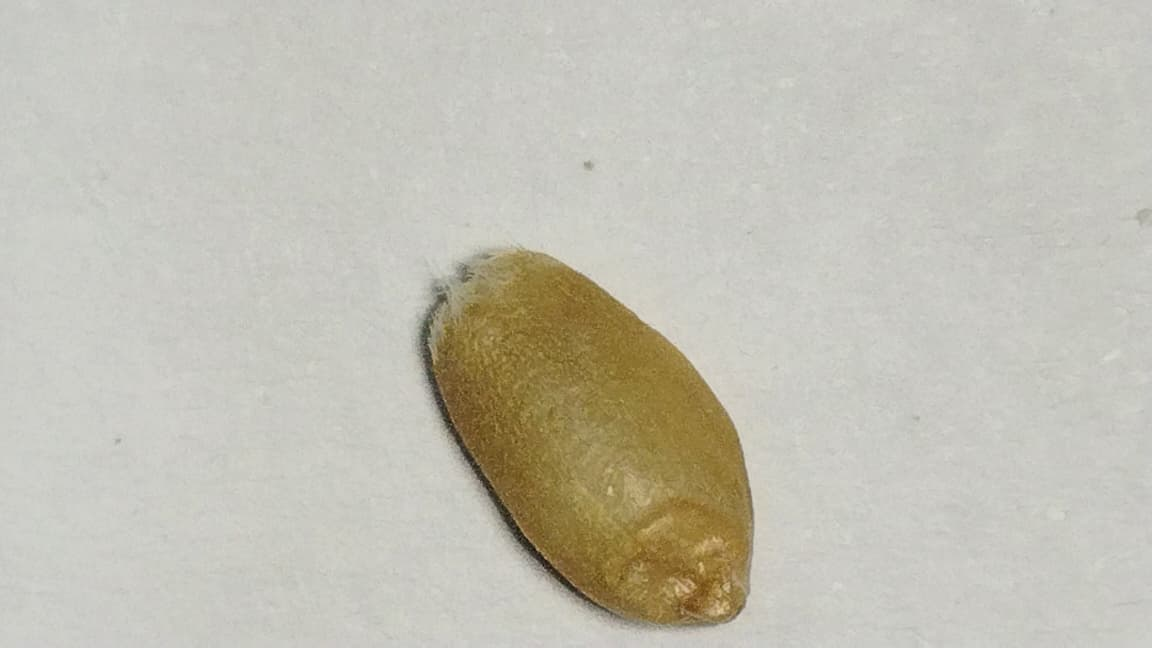healthy: (430, 249, 752, 623)
